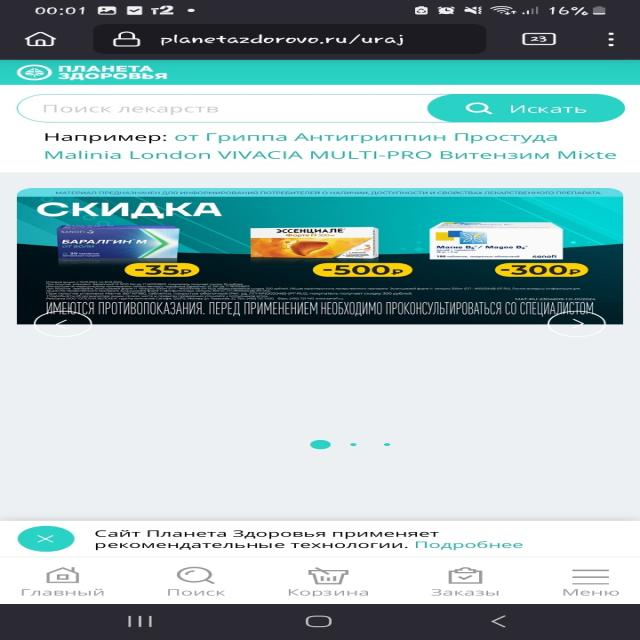button: (18, 526, 73, 552)
site: (2, 520, 640, 557)
